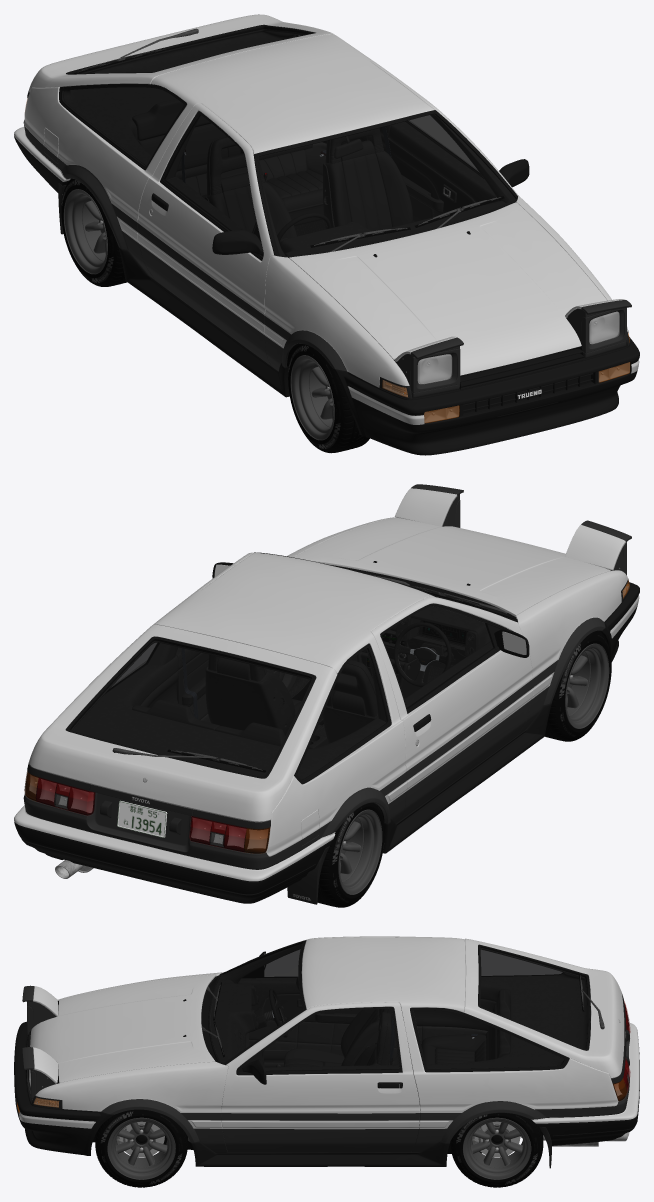
File: toyota-ae86-sprinter-trueno-zenki-a5737b.glb
3 renders of one model, top to bottom at view 1: azimuth 30°, elevation 25°; view 2: azimuth 150°, elevation 25°; view 3: azimuth 270°, elevation 25°, orthographic. The views are drawn at different scales.
Parts seen in each view (by area): view 1: CarBody, Interior, Headlights, FR_Wheel, RR_Wheel; view 2: CarBody, Interior, RR_Wheel, FR_Wheel, Headlights, SteeringWheel; view 3: CarBody, Interior, FL_Wheel, RL_Wheel, Headlights, SteeringWheel.
Part boxes in pixels (left/top/right/bottom): CarBody: left=14, top=14, right=639, bottom=455; Interior: left=64, top=29, right=515, bottom=256; Headlights: left=395, top=299, right=631, bottom=398; FR_Wheel: left=288, top=344, right=369, bottom=453; RR_Wheel: left=61, top=178, right=126, bottom=286; CarBody: left=14, top=517, right=639, bottom=904; Interior: left=71, top=606, right=493, bottom=779; RR_Wheel: left=317, top=802, right=384, bottom=907; FR_Wheel: left=545, top=630, right=611, bottom=741; Headlights: left=394, top=484, right=631, bottom=575; SteeringWheel: left=394, top=622, right=451, bottom=687; CarBody: left=14, top=936, right=639, bottom=1168; Interior: left=188, top=944, right=587, bottom=1142; FL_Wheel: left=95, top=1109, right=187, bottom=1187; RL_Wheel: left=450, top=1113, right=543, bottom=1187; Headlights: left=22, top=985, right=58, bottom=1102; SteeringWheel: left=264, top=989, right=287, bottom=1037.
Size of the model in its own units: 2.19 by 1.46 by 4.8.
Materials: 21 (12 with a texture image).
